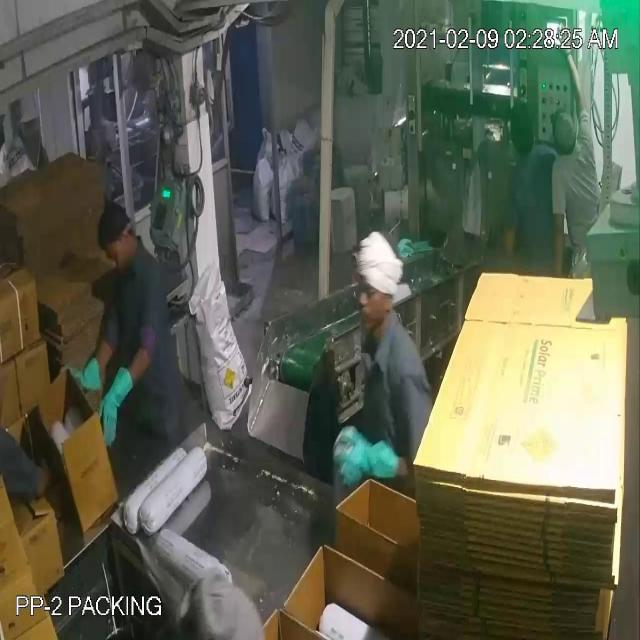Gloves: (24, 50, 576, 458)
